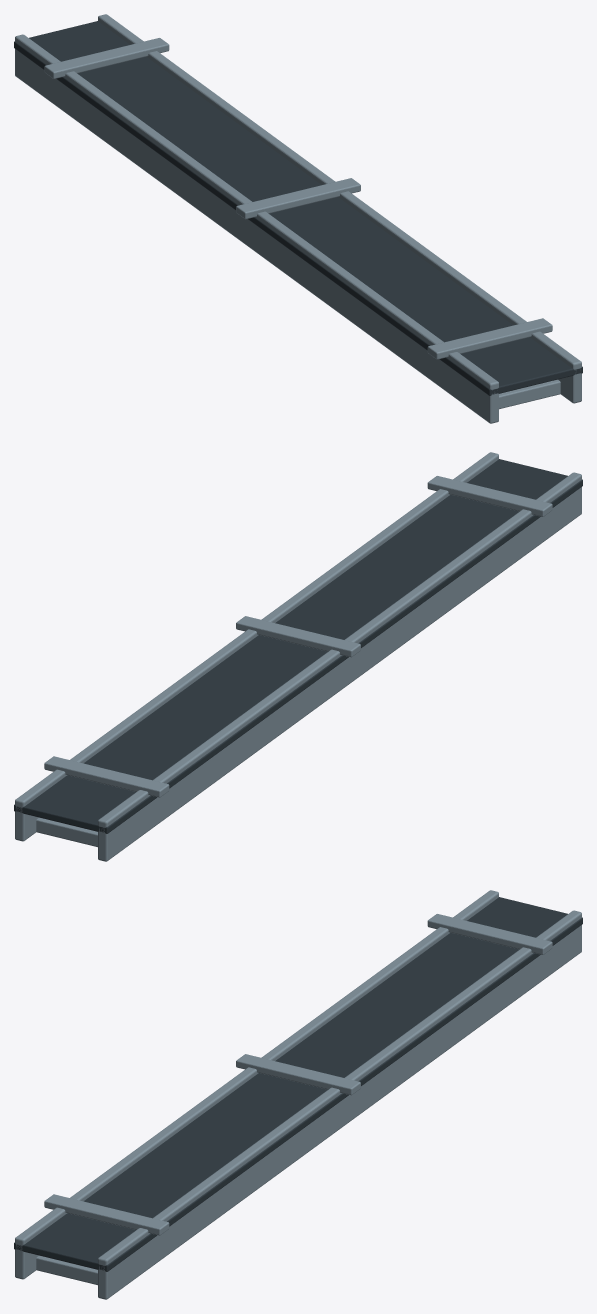
The model's file is specimen_ceiling_tray.glb.
3 renders of one model, top to bottom at view 1: azimuth 30°, elevation 25°; view 2: azimuth 150°, elevation 25°; view 3: azimuth 330°, elevation 25°, orthographic.
Visible parts, largest first — view 1: specimen_ceiling_tray; view 2: specimen_ceiling_tray; view 3: specimen_ceiling_tray.
Boxes of the visible parts, x1,y1,x2,y2 form: specimen_ceiling_tray: (14,14,582,423); specimen_ceiling_tray: (14,452,582,861); specimen_ceiling_tray: (14,890,582,1299).
Bounding box in the file's own units: 0.42 × 0.1525 × 2.98.
